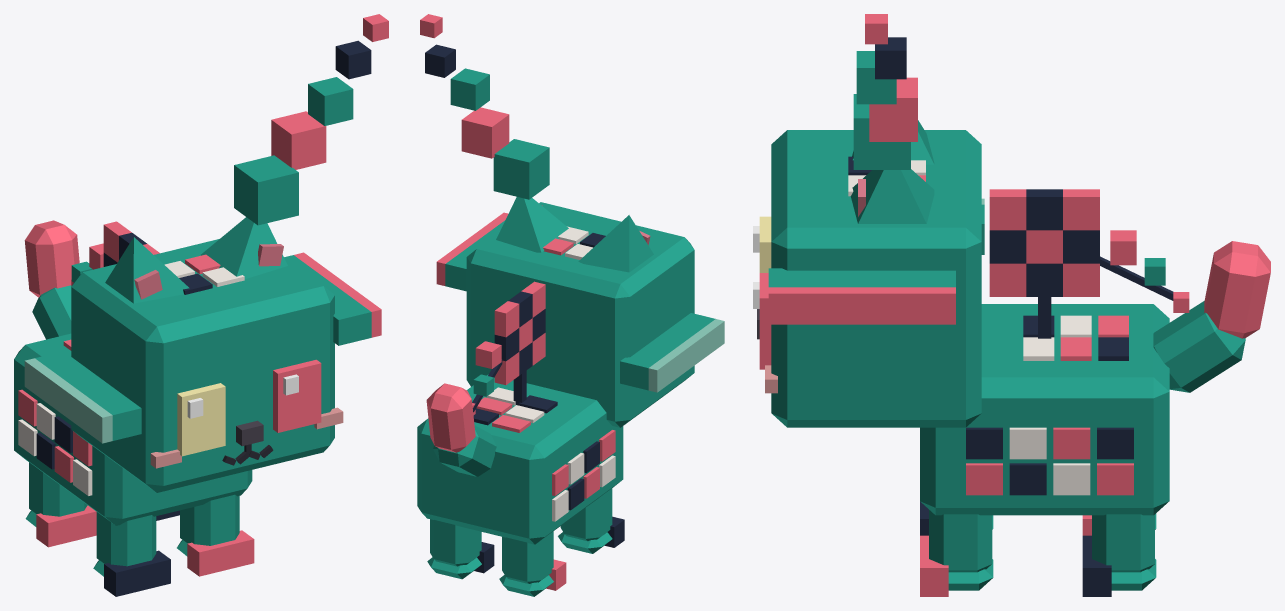
File: CatCafe_Cat_Glitch.fbx
3 renders of one model, left to right at view 1: azimuth 30°, elevation 25°; view 2: azimuth 150°, elevation 25°; view 3: azimuth 270°, elevation 25°, orthographic. The views are drawn at different scales.
Parts seen in each view (by area): view 1: CatCafe_Cat_Glitch_Head, CatCafe_Cat_Glitch_Prop, CatCafe_Cat_Glitch_Body, CatCafe_Cat_Glitch_Glow, CatCafe_Cat_Glitch_Tail, CatCafe_Cat_Glitch_LegF2, CatCafe_Cat_Glitch_LegF1, CatCafe_Cat_Glitch_LegB2, CatCafe_Cat_Glitch_Eye1, CatCafe_Cat_Glitch_EarL, CatCafe_Cat_Glitch_Eye2, CatCafe_Cat_Glitch_EarR (+2 smaller); view 2: CatCafe_Cat_Glitch_Head, CatCafe_Cat_Glitch_Body, CatCafe_Cat_Glitch_Prop, CatCafe_Cat_Glitch_Glow, CatCafe_Cat_Glitch_Tail, CatCafe_Cat_Glitch_Sprite_Glow, CatCafe_Cat_Glitch_LegB2, CatCafe_Cat_Glitch_LegB1, CatCafe_Cat_Glitch_Prop2, CatCafe_Cat_Glitch_LegF2, CatCafe_Cat_Glitch_EarL, CatCafe_Cat_Glitch_EarR; view 3: CatCafe_Cat_Glitch_Head, CatCafe_Cat_Glitch_Body, CatCafe_Cat_Glitch_Glow, CatCafe_Cat_Glitch_Tail, CatCafe_Cat_Glitch_Prop, CatCafe_Cat_Glitch_Sprite_Glow, CatCafe_Cat_Glitch_Prop2, CatCafe_Cat_Glitch_LegF1, CatCafe_Cat_Glitch_LegB1, CatCafe_Cat_Glitch_EarL, CatCafe_Cat_Glitch_Eye1, CatCafe_Cat_Glitch_Eye2.
Part boxes in pixels (x1,y1,x2,y2): CatCafe_Cat_Glitch_Head: (71, 239, 343, 492); CatCafe_Cat_Glitch_Prop: (35, 40, 371, 440); CatCafe_Cat_Glitch_Body: (14, 333, 252, 525); CatCafe_Cat_Glitch_Glow: (24, 14, 388, 443); CatCafe_Cat_Glitch_Tail: (24, 220, 79, 339); CatCafe_Cat_Glitch_LegF2: (93, 512, 170, 596); CatCafe_Cat_Glitch_LegF1: (177, 494, 254, 576); CatCafe_Cat_Glitch_LegB2: (25, 462, 96, 547); CatCafe_Cat_Glitch_Eye1: (273, 359, 321, 432); CatCafe_Cat_Glitch_EarL: (201, 217, 287, 279); CatCafe_Cat_Glitch_Eye2: (177, 383, 225, 456); CatCafe_Cat_Glitch_EarR: (105, 237, 189, 303); CatCafe_Cat_Glitch_Head: (466, 202, 694, 427); CatCafe_Cat_Glitch_Body: (417, 374, 623, 544); CatCafe_Cat_Glitch_Prop: (425, 44, 715, 390); CatCafe_Cat_Glitch_Glow: (420, 14, 724, 392); CatCafe_Cat_Glitch_Tail: (426, 383, 496, 476); CatCafe_Cat_Glitch_Sprite_Glow: (472, 281, 545, 415); CatCafe_Cat_Glitch_LegB2: (499, 531, 566, 596); CatCafe_Cat_Glitch_LegB1: (427, 519, 494, 579); CatCafe_Cat_Glitch_Prop2: (472, 291, 545, 412); CatCafe_Cat_Glitch_LegF2: (558, 488, 624, 553); CatCafe_Cat_Glitch_EarL: (496, 197, 568, 252); CatCafe_Cat_Glitch_EarR: (578, 215, 653, 272); CatCafe_Cat_Glitch_Head: (757, 130, 981, 427); CatCafe_Cat_Glitch_Body: (920, 304, 1169, 515); CatCafe_Cat_Glitch_Glow: (768, 14, 984, 324); CatCafe_Cat_Glitch_Tail: (1153, 241, 1270, 392); CatCafe_Cat_Glitch_Prop: (768, 37, 984, 287); CatCafe_Cat_Glitch_Sprite_Glow: (989, 189, 1189, 312); CatCafe_Cat_Glitch_Prop2: (989, 189, 1173, 338); CatCafe_Cat_Glitch_LegF1: (920, 510, 993, 596); CatCafe_Cat_Glitch_LegB1: (1082, 514, 1156, 596); CatCafe_Cat_Glitch_EarL: (850, 169, 934, 223); CatCafe_Cat_Glitch_Eye1: (753, 273, 771, 369); CatCafe_Cat_Glitch_Eye2: (753, 216, 771, 272).
Size of the model in its own units: 1.66 by 2.69 by 1.97.
1 material, 1 textured.
